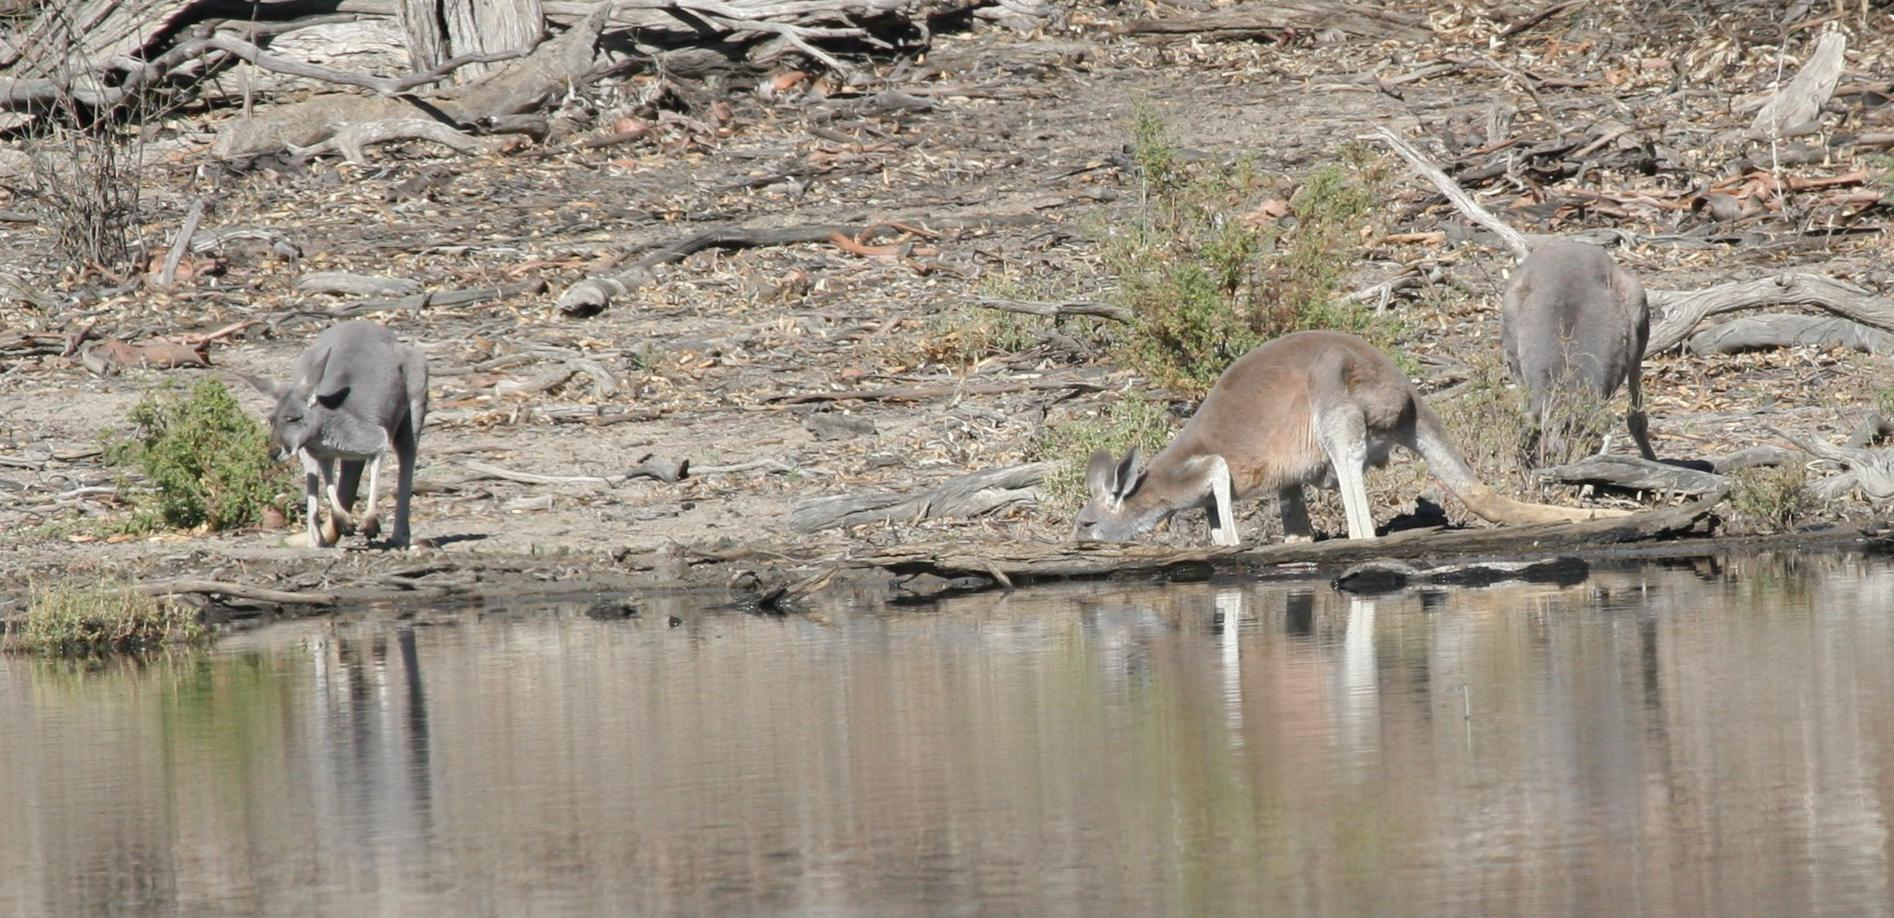Red kangaroo: (1056, 329, 1638, 558), (244, 308, 436, 560), (1482, 242, 1656, 480)
